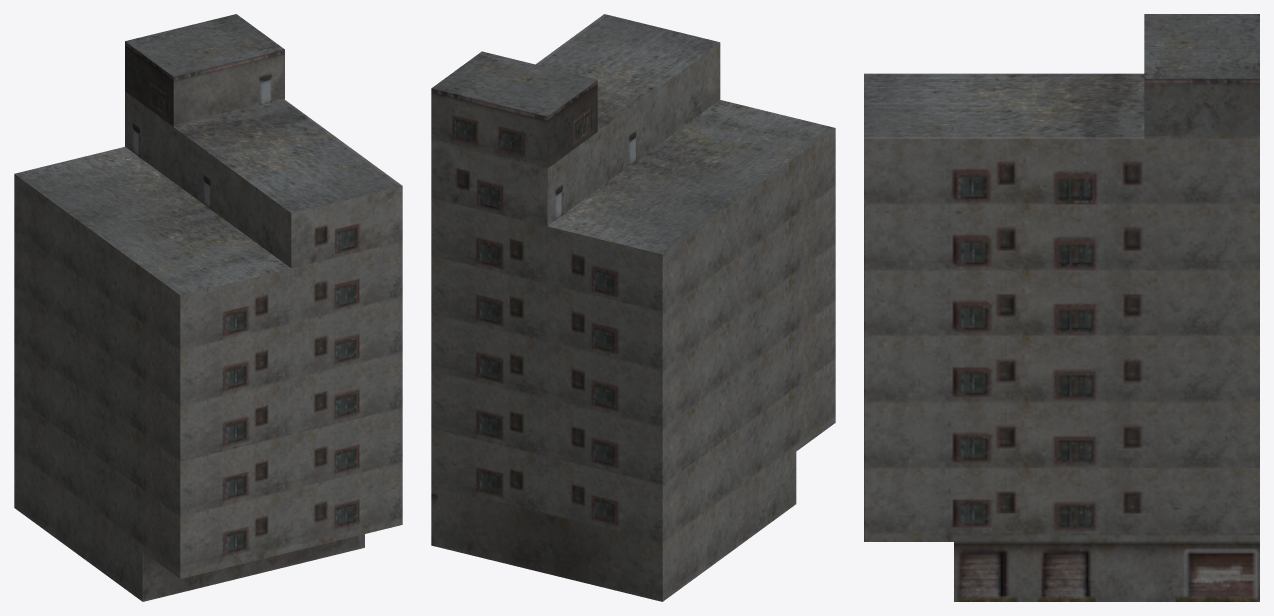
The model's file is Tower02.FBX.
3 views of the same model, side by side, from view 1: azimuth 30°, elevation 25°; view 2: azimuth 150°, elevation 25°; view 3: azimuth 270°, elevation 25° (orthographic). The views are drawn at different scales.
Parts seen in each view (by area): view 1: Tower02; view 2: Tower02; view 3: Tower02.
Part boxes in pixels (x1=…): Tower02: x1=14, y1=14, x2=402, y2=601; Tower02: x1=431, y1=14, x2=835, y2=601; Tower02: x1=864, y1=14, x2=1259, y2=601.
Bounding box in the file's own units: 2149 × 4062 × 2784.
